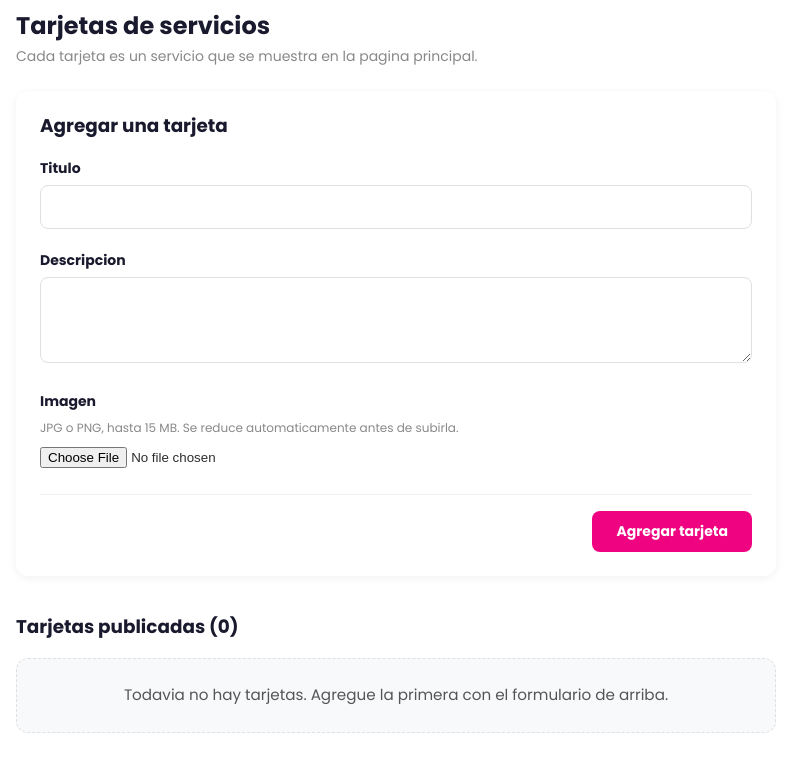
Scenario: AdminCards › refuses to save a card without a title
Expected: the text "Todavia no hay tarjetas" is shown, [124, 684, 668, 705]
Click the button "Agregar tarjeta". click: point(672, 531)
box: [592, 510, 752, 552]
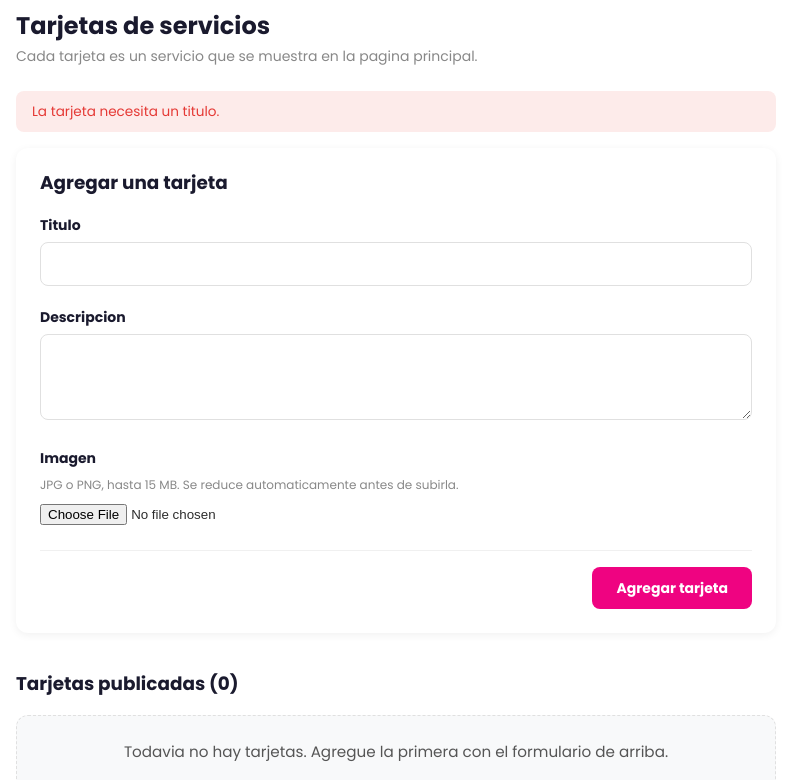
Now the message shows "necesita un titulo", box [32, 102, 219, 121]
